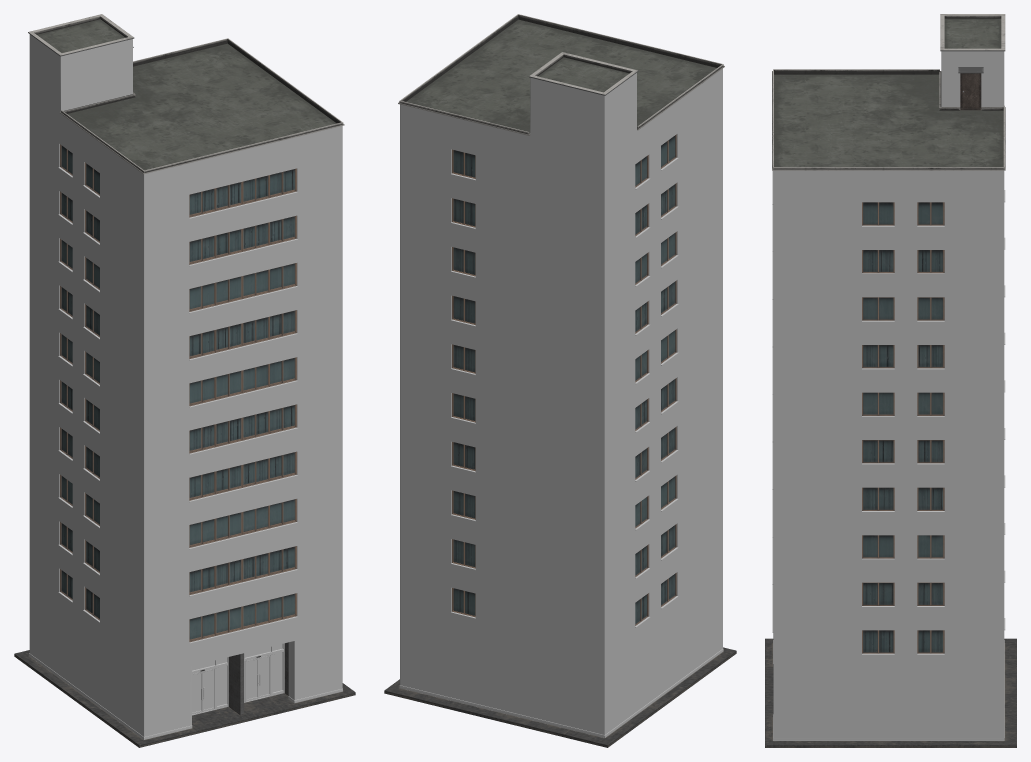
File: BldG.fbx
3 renders of one model, left to right at view 1: azimuth 30°, elevation 25°; view 2: azimuth 150°, elevation 25°; view 3: azimuth 270°, elevation 25°, orthographic. The views are drawn at different scales.
Visible parts, largest first — view 1: BldG_LOD0; view 2: BldG_LOD0; view 3: BldG_LOD0.
Part boxes in pixels (x1,y1,x2,y2): BldG_LOD0: (14, 14, 355, 747); BldG_LOD0: (384, 14, 736, 747); BldG_LOD0: (765, 14, 1016, 747).
Size of the model in its own units: 1200 by 3320 by 1200.
